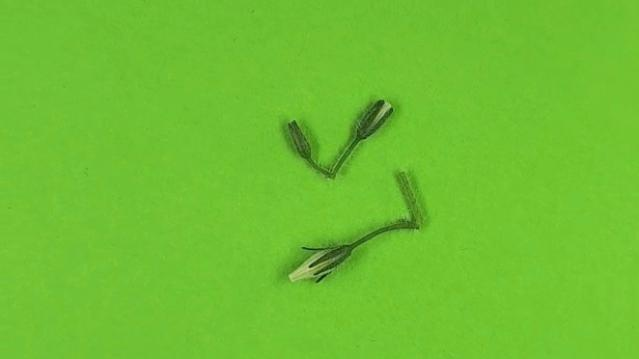Flower Bud: (288, 246, 351, 285), (356, 99, 394, 138), (287, 120, 314, 162)
